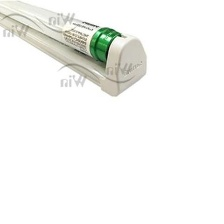light_bulb: (0, 0, 129, 67)
